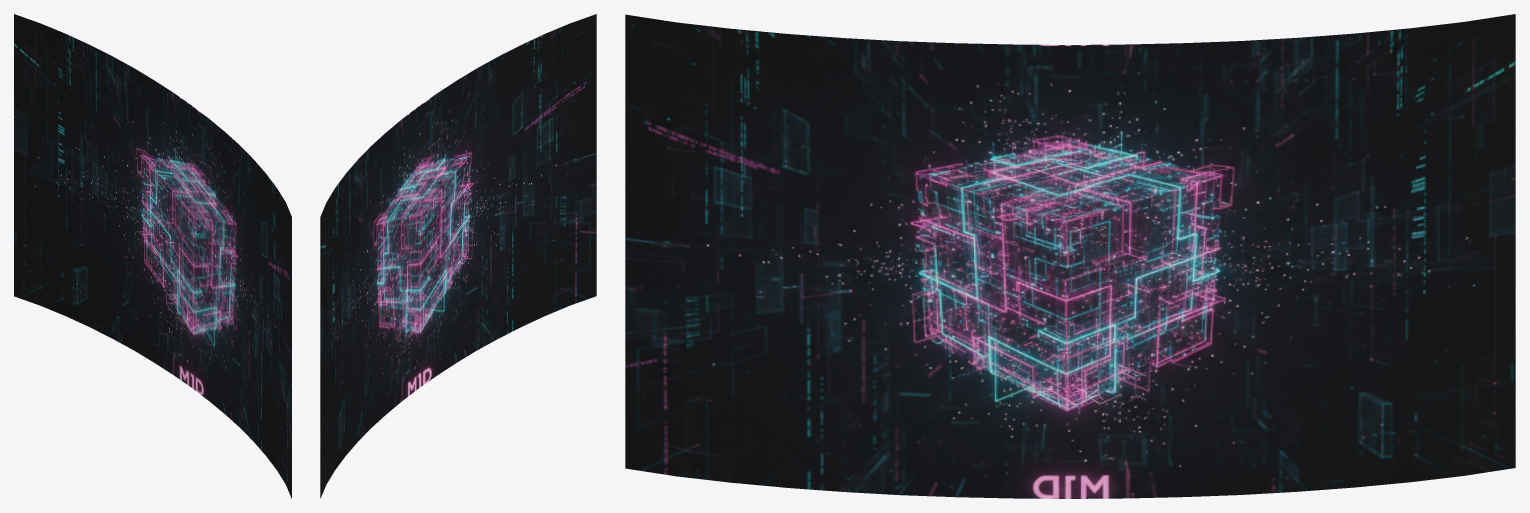
Rendered from m1d_curved_screen.glb.
The picture shows the model from 3 angles, left to right: view 1: azimuth 30°, elevation 25°; view 2: azimuth 150°, elevation 25°; view 3: azimuth 270°, elevation 25°; orthographic projection. The views are drawn at different scales.
Visible parts, largest first — view 1: videoFframe_screen; view 2: videoFframe_screen; view 3: videoFframe_screen.
Boxes of the visible parts, x1,y1,x2,y2 form: videoFframe_screen: [14, 14, 291, 498]; videoFframe_screen: [320, 14, 596, 498]; videoFframe_screen: [625, 14, 1515, 498].
Size of the model in its own units: 0.882 by 6.02 by 10.7.
Materials: 1 (1 with a texture image).
